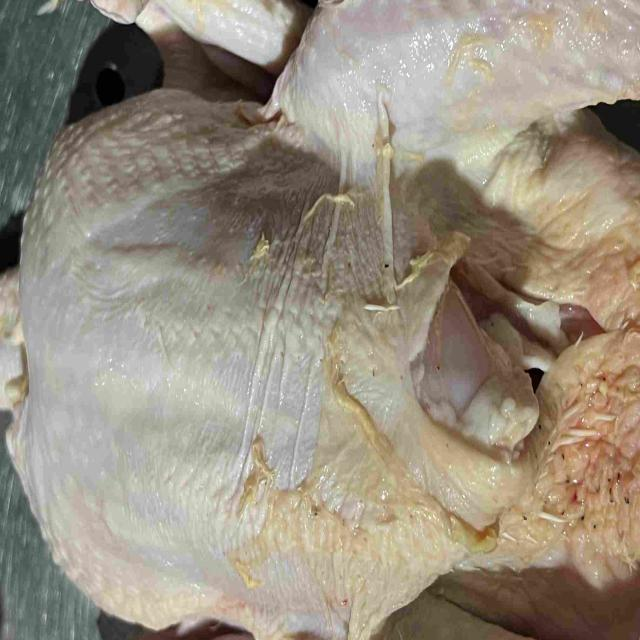breast: (9, 97, 526, 626)
leg: (269, 0, 640, 188)
wing: (92, 0, 315, 105)
